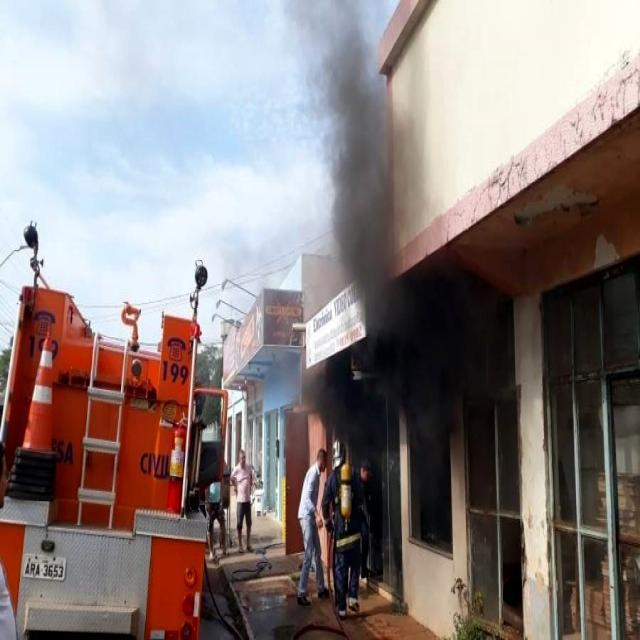Smoke: (292, 0, 438, 398)
